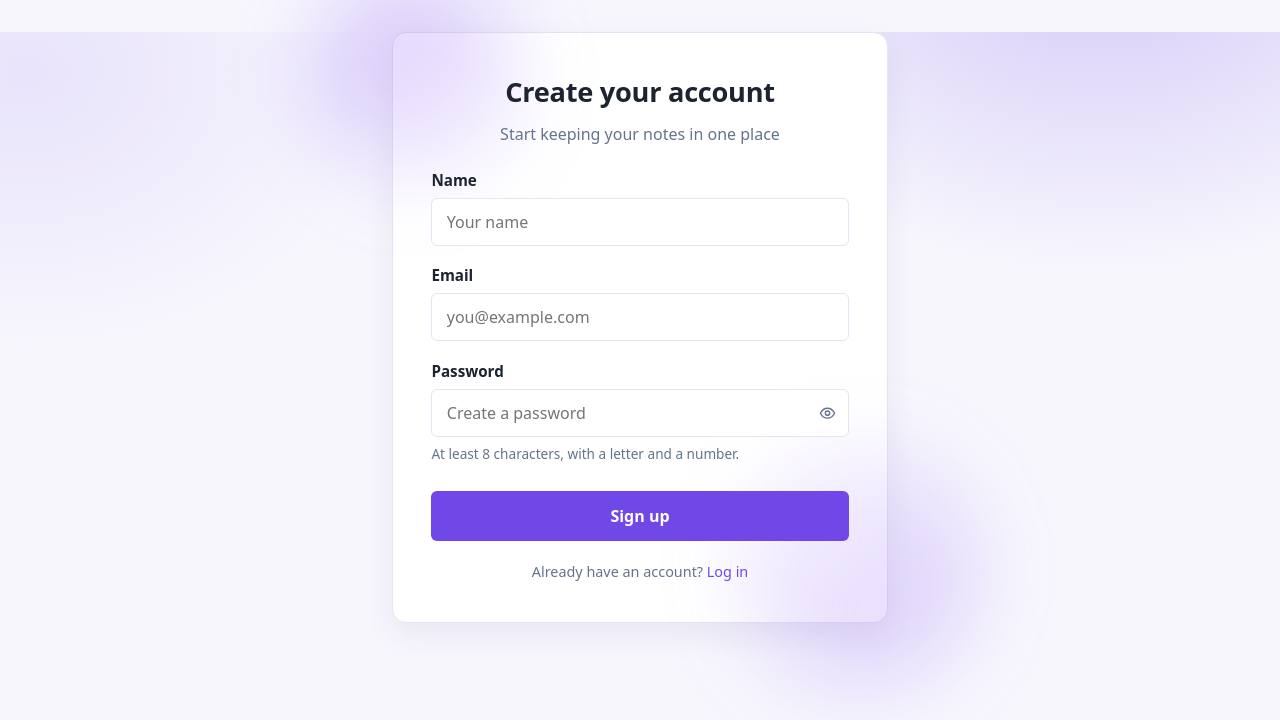
Scenario: SignupPage › says it is working while the request is in flight
The width and height of the screenshot is (1280, 720).
Type "Aiman" into the field with placeholder "Your name" at (640, 222), box [431, 198, 849, 246]
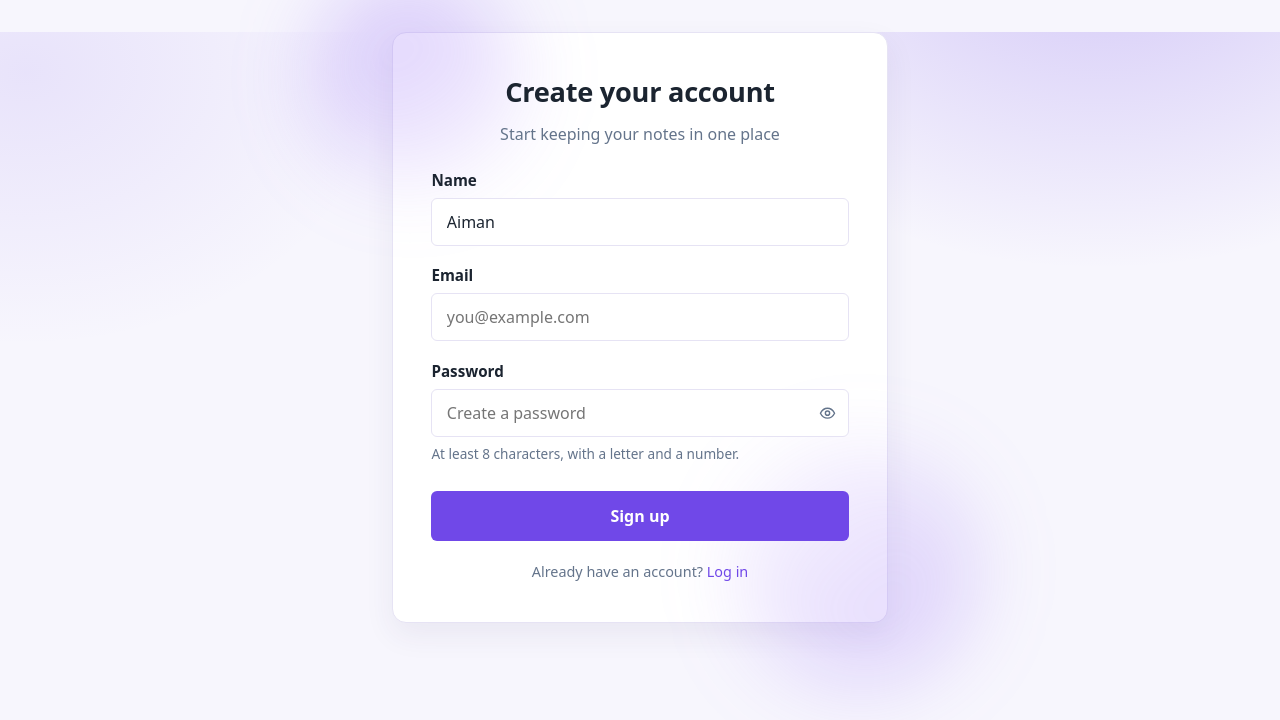
Type "aiman@example.com" into the field with placeholder "you@example.com" at (640, 317), box [431, 293, 849, 341]
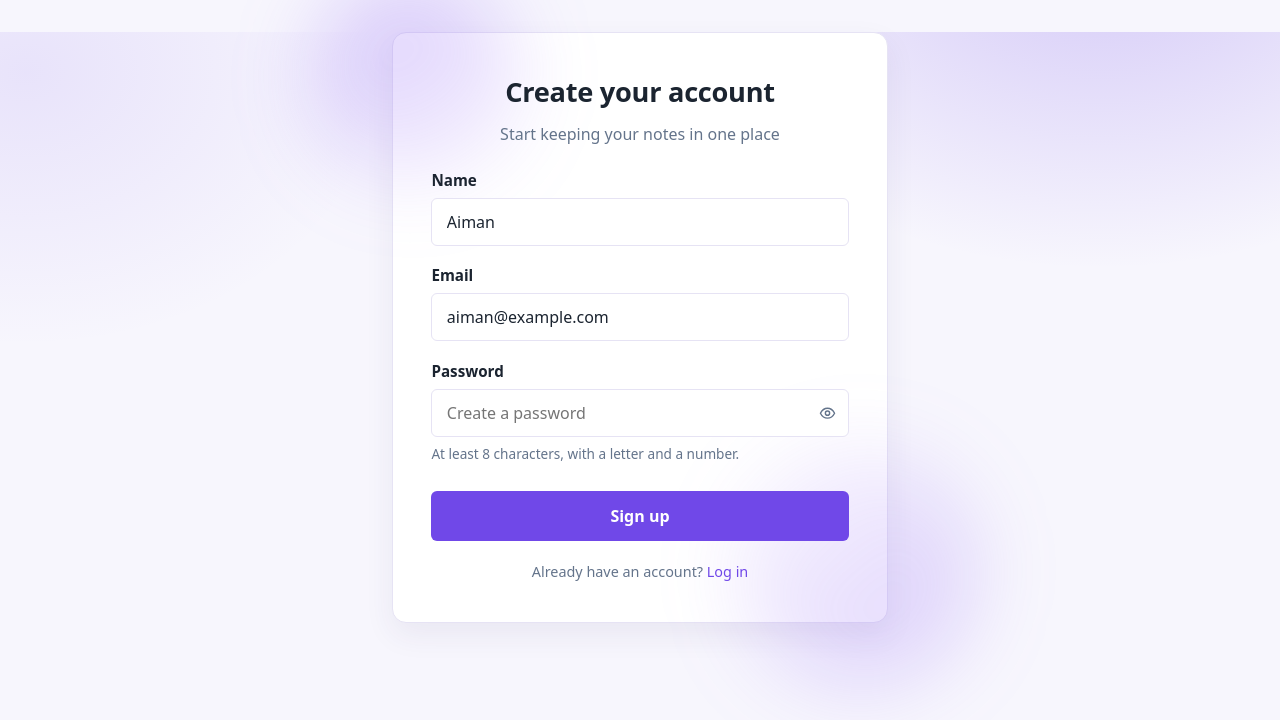
Type "GoodPass1" into the password field with placeholder "Create a password" at (640, 413), box [431, 389, 849, 437]
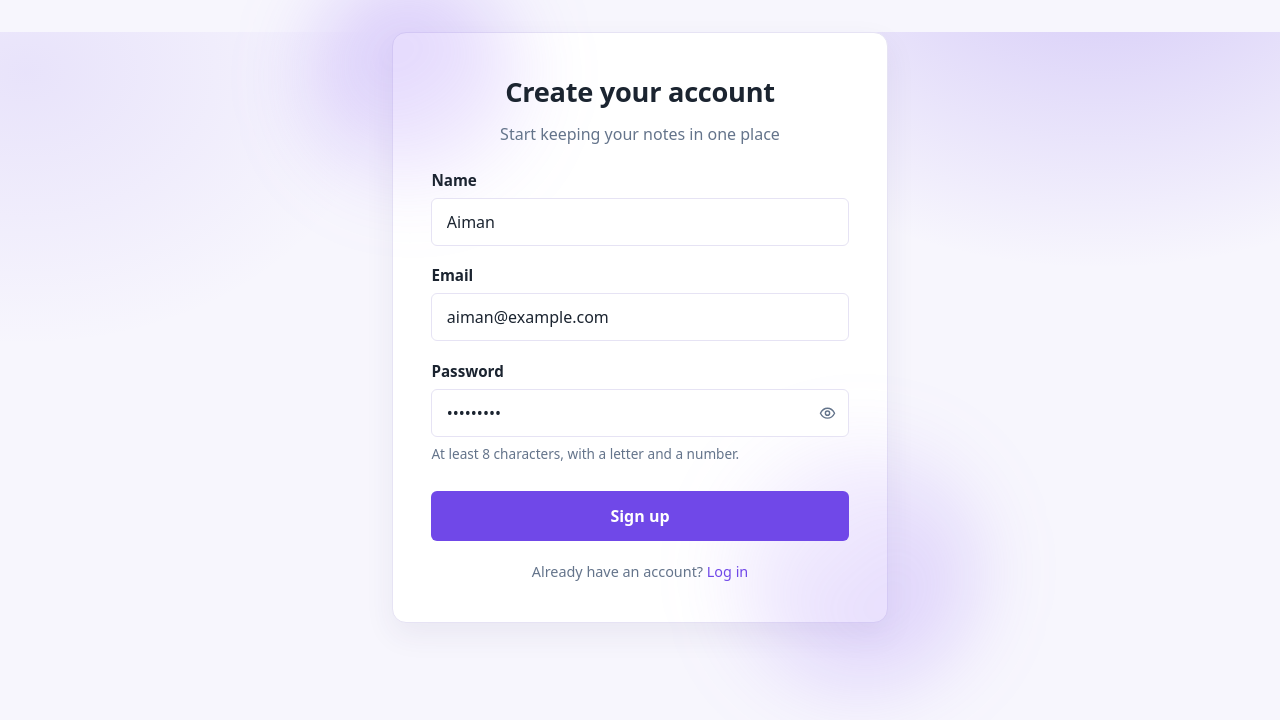
Click the button "Sign up" at (640, 516), box [431, 491, 849, 541]
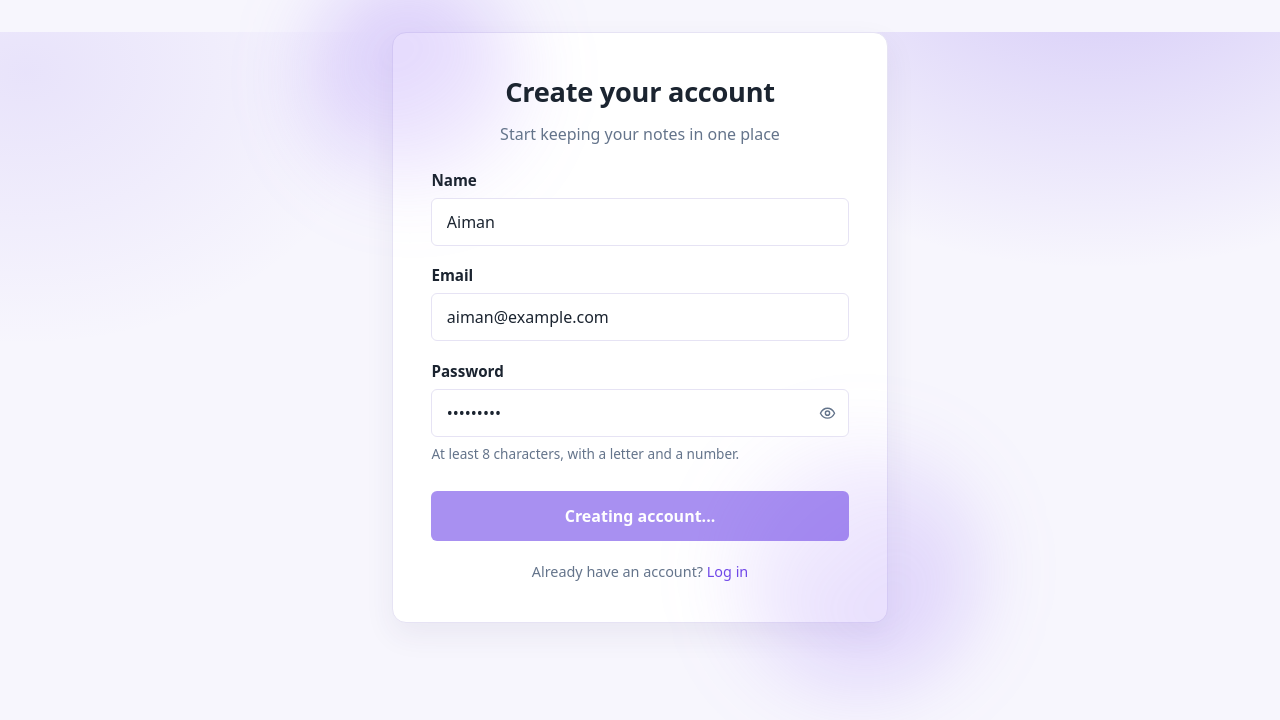
Result: the button "Creating account..." is disabled at [431, 491, 849, 541]
